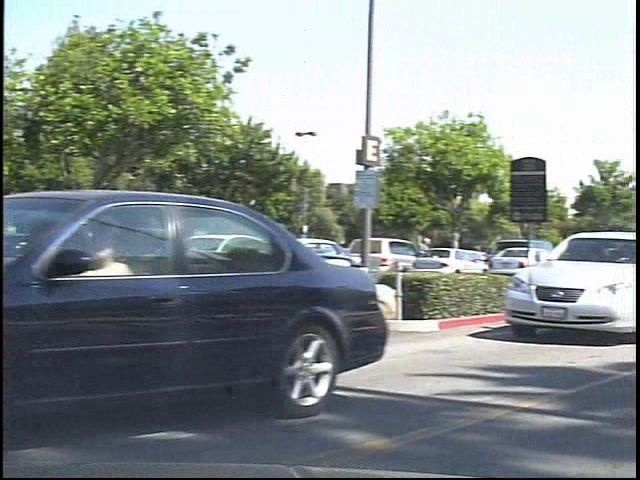person: (424, 231, 451, 284)
